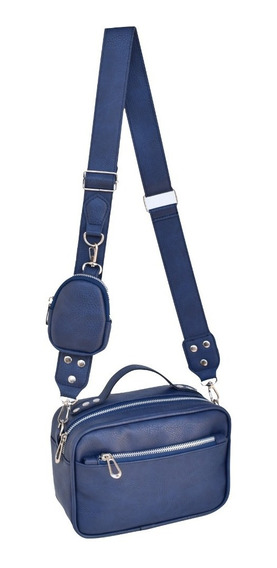cartera: (47, 23, 233, 541)
